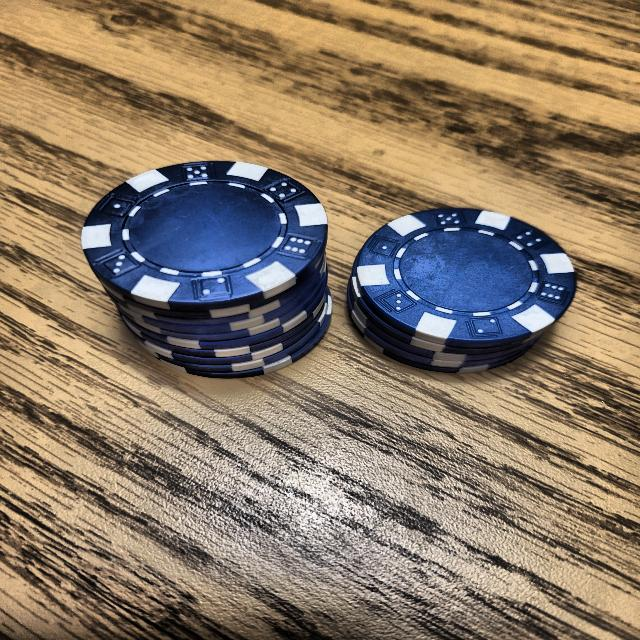Chip: (62, 149, 352, 396), (332, 183, 584, 405)
